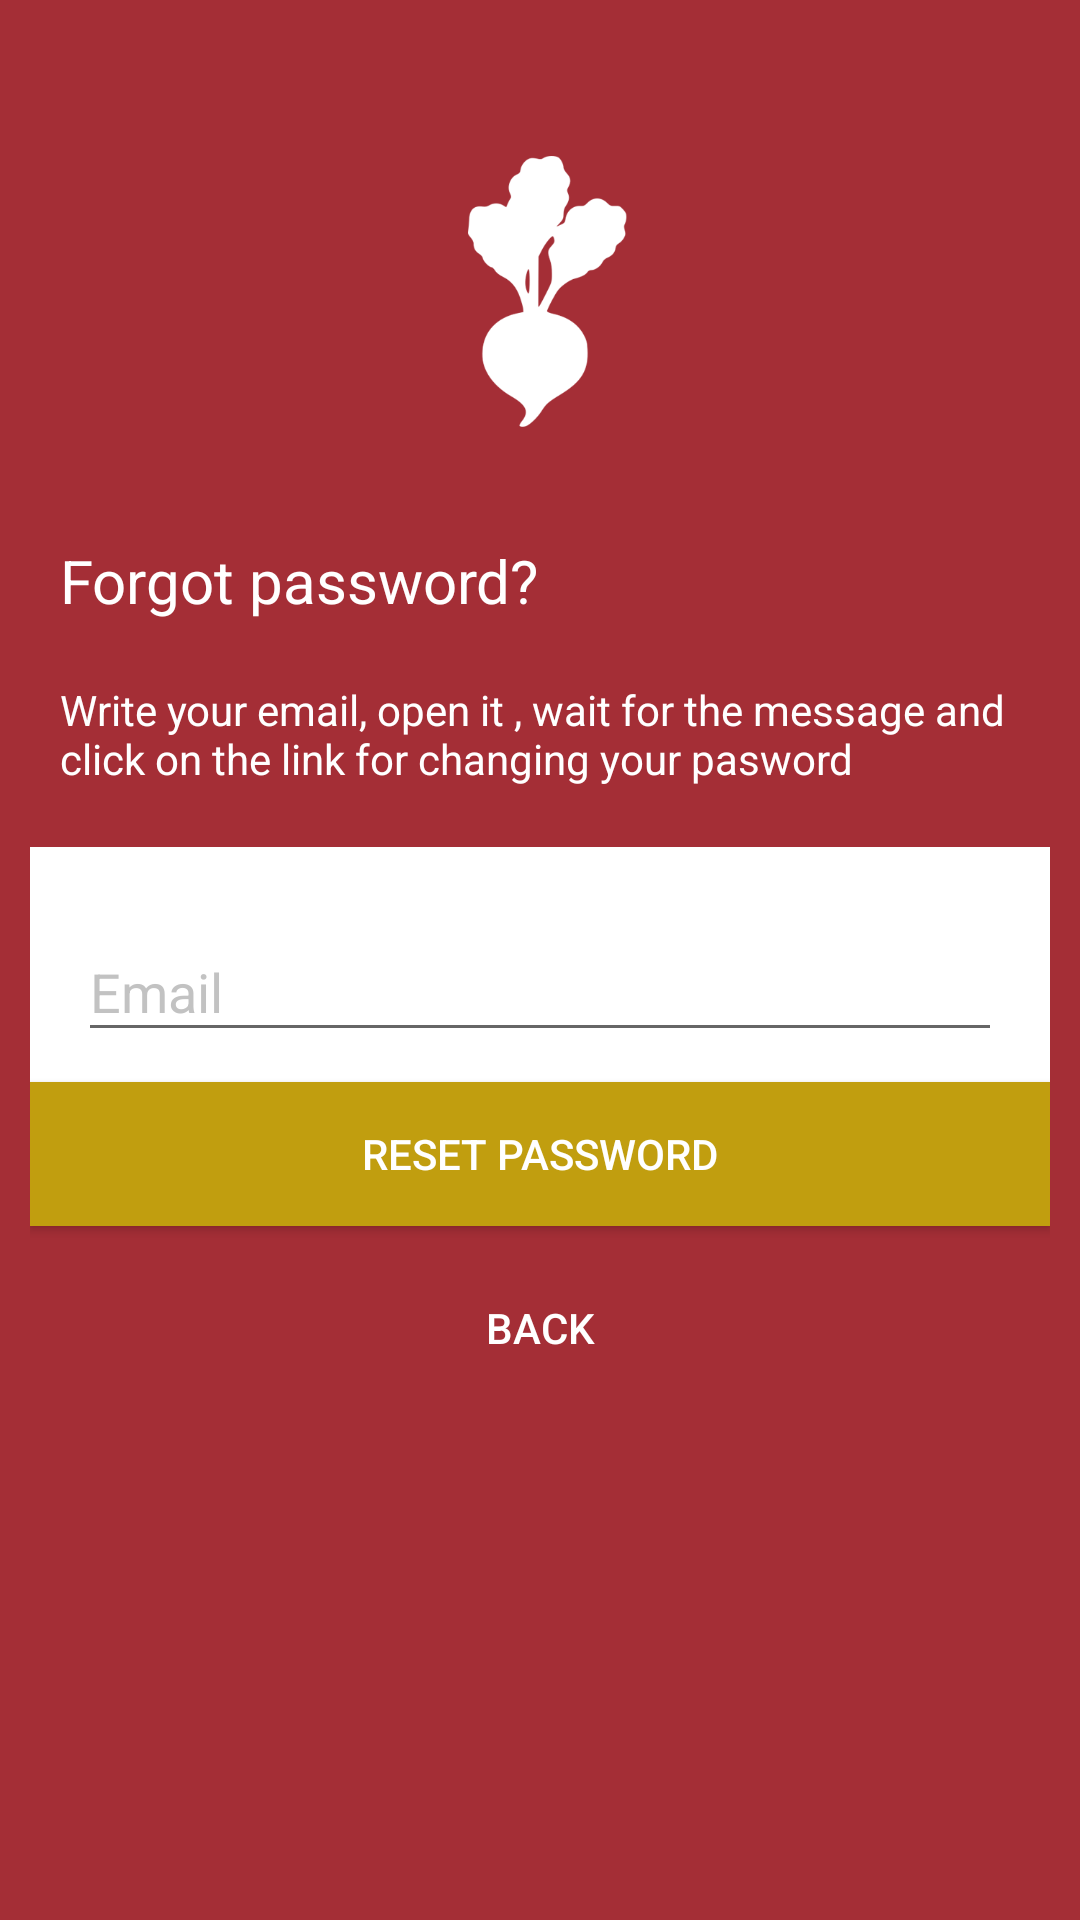

Icon bounding boxes for this 1080px x 1920px phone screenshot, format (x1, y1, x2, y2):
rabano: (468, 156, 627, 427)
